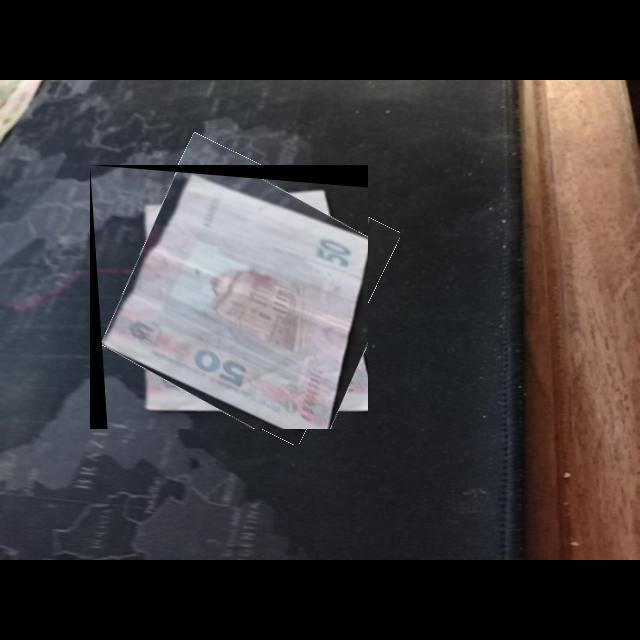50uah: (100, 172, 369, 430)
